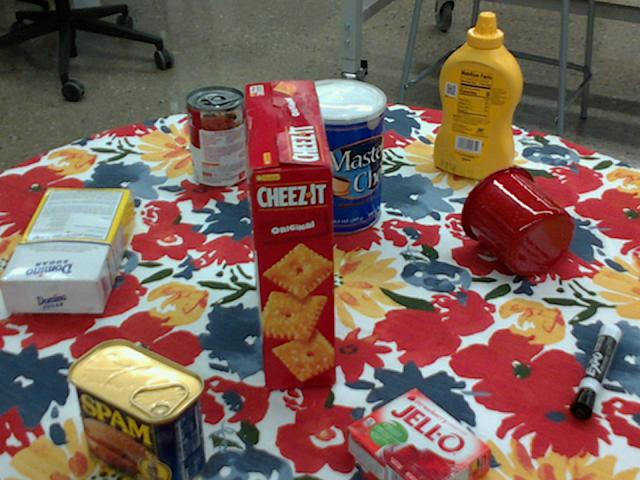cracker_box: (243, 84, 333, 390)
gelatin_box: (346, 388, 493, 479)
large_marker: (571, 321, 621, 416)
master_chef_can: (288, 78, 385, 235)
mug: (460, 165, 574, 275)
mustard_bottle: (432, 13, 521, 180)
potted_meat_can: (64, 340, 204, 479)
sugar_box: (0, 188, 134, 314)
tomato_soup_can: (185, 86, 246, 188)
tuna_fish_can: (311, 115, 379, 167)
